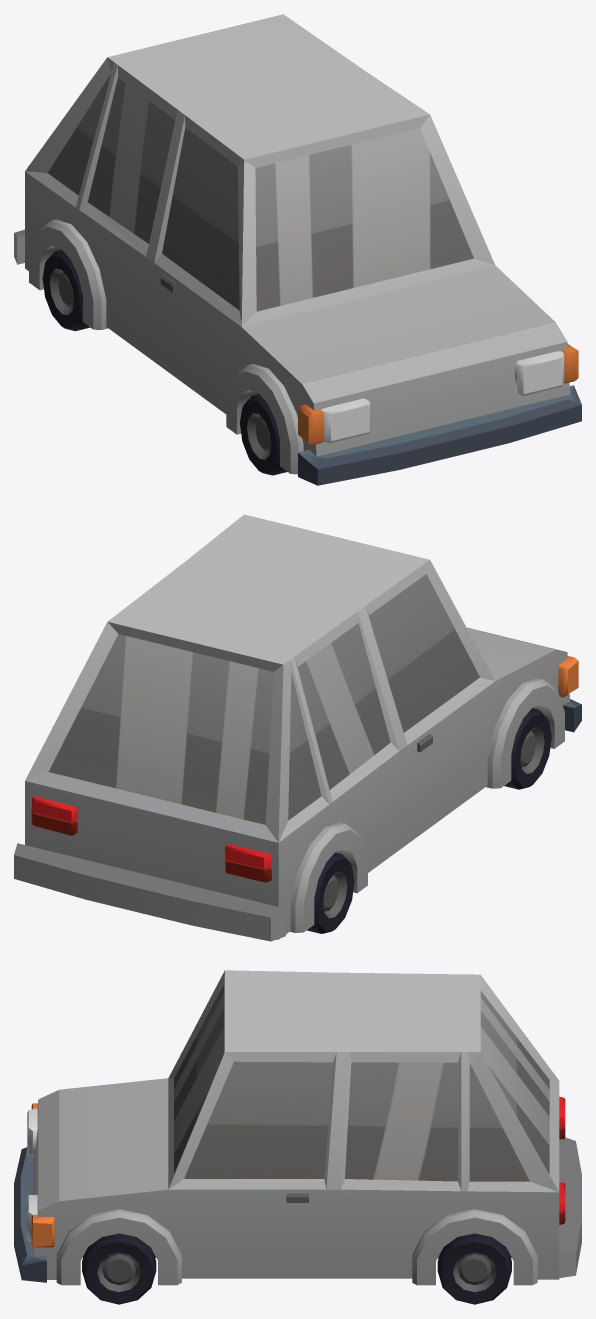
Rendered from Car_1_11.fbx.
3 renders of one model, top to bottom at view 1: azimuth 30°, elevation 25°; view 2: azimuth 150°, elevation 25°; view 3: azimuth 270°, elevation 25°, orthographic. The views are drawn at different scales.
Parts seen in each view (by area): view 1: Car_1_11, Wheel_Br, Wheel_Fr; view 2: Car_1_11, Wheel_Fr, Wheel_Br; view 3: Car_1_11, Wheel_Fl, Wheel_Bl.
Boxes of the visible parts, box(x1,y1,x2,y2) form: Car_1_11: box(14, 14, 581, 485); Wheel_Br: box(42, 249, 89, 331); Wheel_Fr: box(240, 394, 287, 475); Car_1_11: box(14, 514, 581, 941); Wheel_Fr: box(504, 708, 551, 789); Wheel_Br: box(307, 852, 354, 933); Car_1_11: box(14, 970, 581, 1285); Wheel_Fl: box(82, 1233, 156, 1304); Wheel_Bl: box(437, 1233, 511, 1304).
Size of the model in its own units: 105 by 94.33 by 207.
